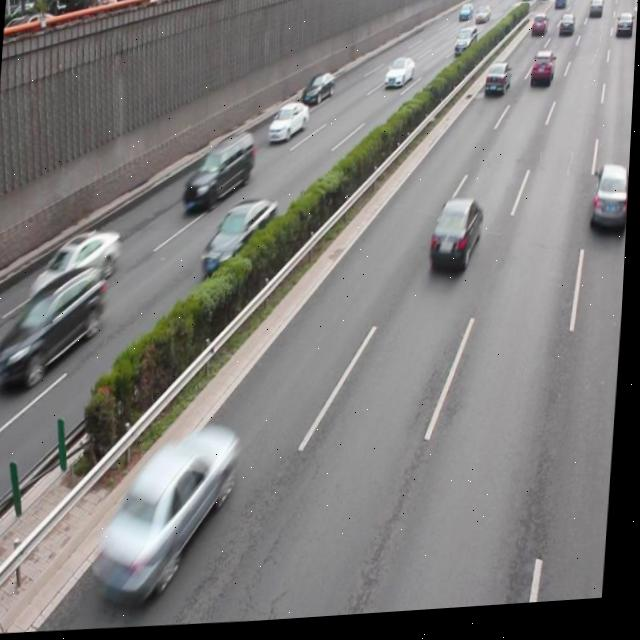car: (98, 419, 240, 600), (0, 262, 108, 384), (34, 227, 123, 314), (202, 195, 279, 286), (429, 198, 484, 278), (590, 166, 632, 241), (269, 104, 311, 149), (302, 73, 336, 112), (483, 64, 512, 105), (529, 55, 556, 98), (383, 60, 416, 93)
truck: (185, 131, 259, 213)
